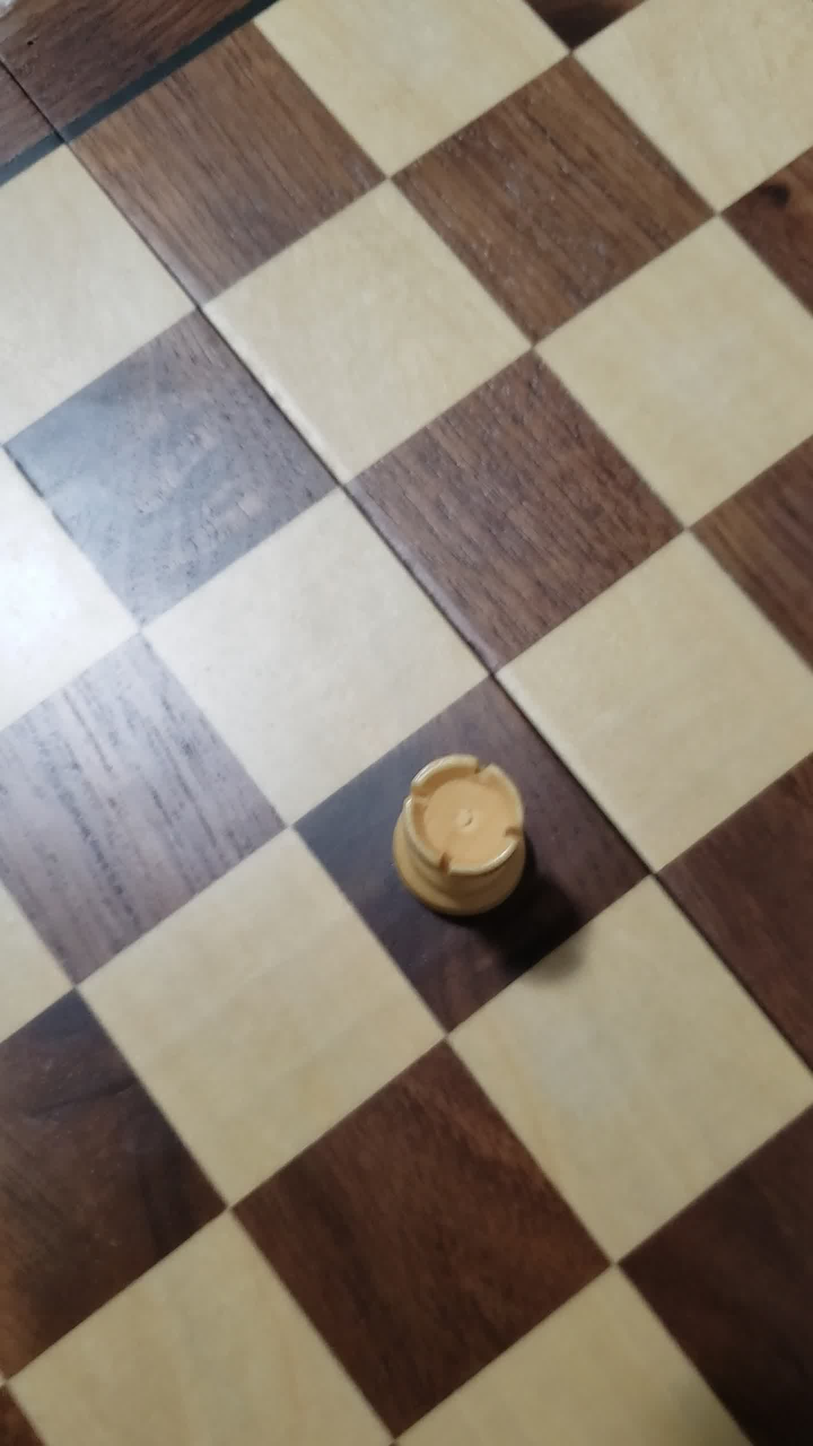white-rook: (375, 734, 550, 940)
